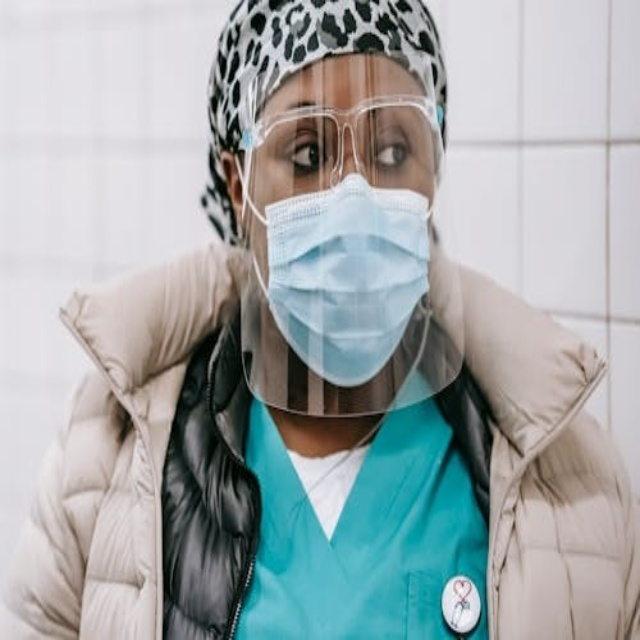Gafas: (239, 85, 442, 227)
Mascara: (258, 170, 434, 386)
